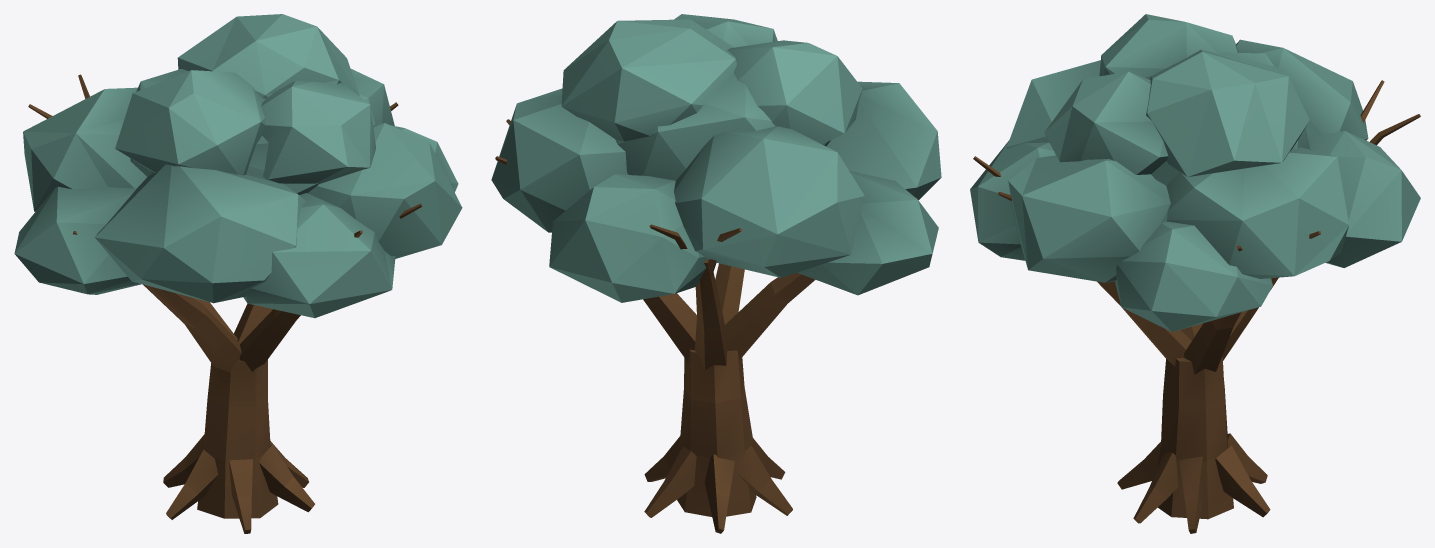
File: tree_big_oak_low.glb
3 renders of one model, left to right at view 1: azimuth 30°, elevation 25°; view 2: azimuth 150°, elevation 25°; view 3: azimuth 270°, elevation 25°, orthographic. The views are drawn at different scales.
Bounding box in the file's own units: 11.77 × 12.28 × 10.87.
